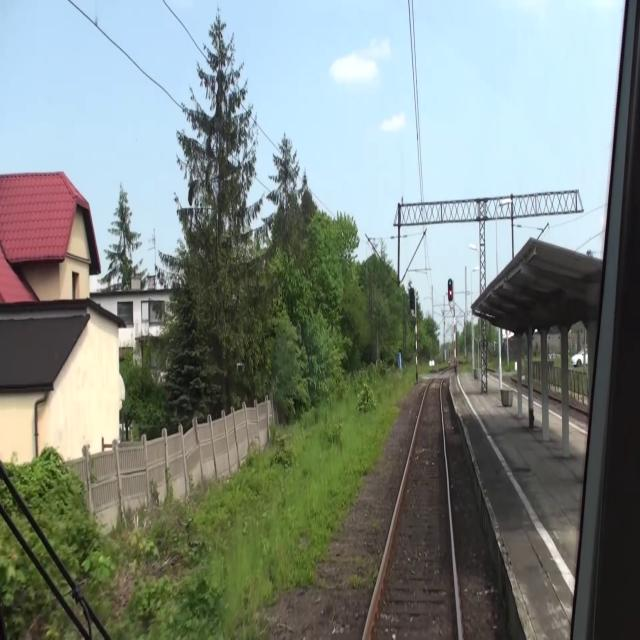rail-track: (365, 376, 457, 639)
